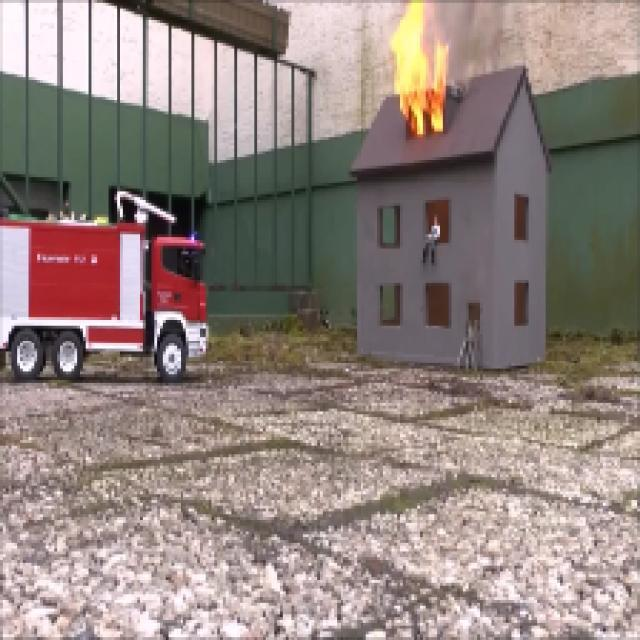Fire: (382, 8, 448, 132)
